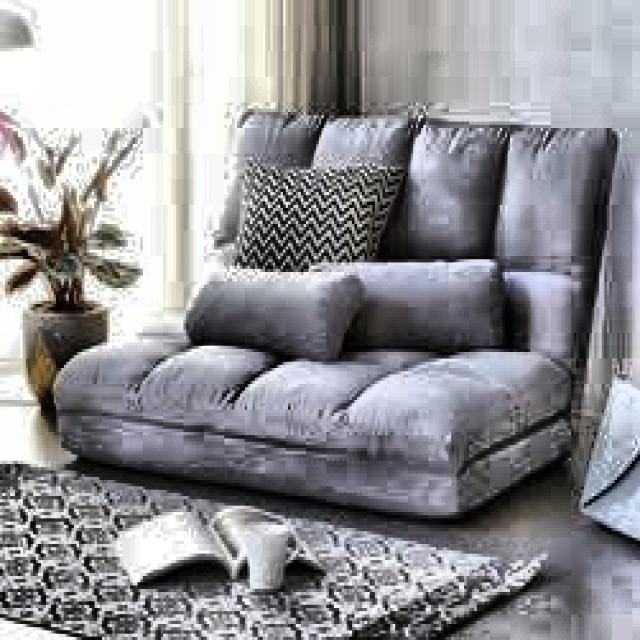sofa: (58, 125, 640, 512)
